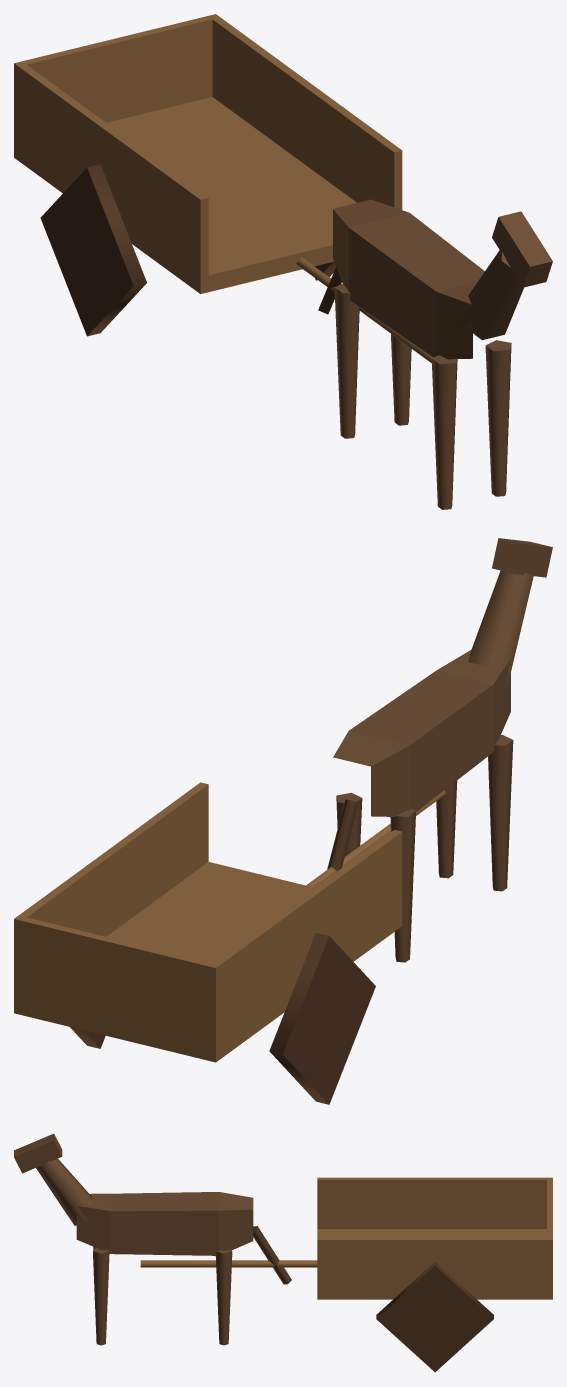
File: veh_ground_cart_a01_lod2.glb
3 renders of one model, top to bottom at view 1: azimuth 30°, elevation 25°; view 2: azimuth 150°, elevation 25°; view 3: azimuth 270°, elevation 25°, orthographic. The views are drawn at different scales.
Parts seen in each view (by area): view 1: body, animal_0, wheel_0; view 2: body, animal_0, wheel_0; view 3: body, animal_0, wheel_1.
Part boxes in pixels (x1,y1,x2,y2): body: (14,14,432,363); animal_0: (318,199,552,509); wheel_0: (40,164,146,336); body: (14,782,446,1062); animal_0: (327,538,552,962); wheel_0: (269,932,375,1104); body: (140,1177,552,1299); animal_0: (14,1133,291,1345); wheel_1: (376,1262,493,1372).
Bounding box in the file's own units: 1.8 × 2.23 × 5.49.
